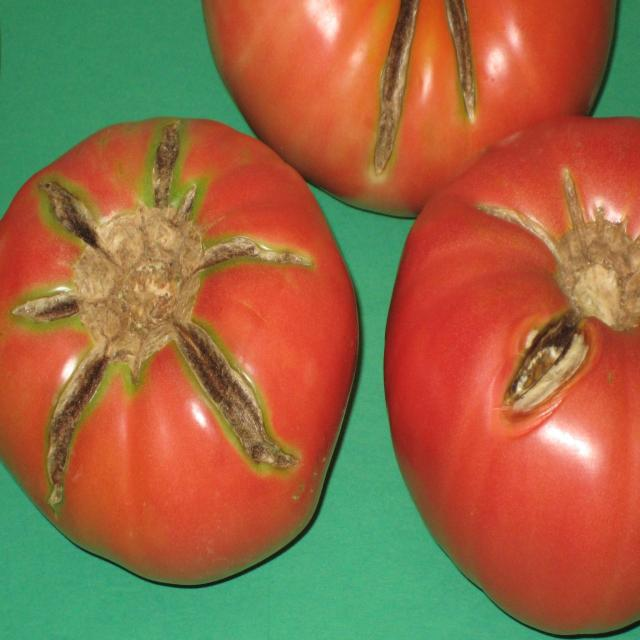tomato: (0, 103, 361, 580), (385, 117, 640, 635)
